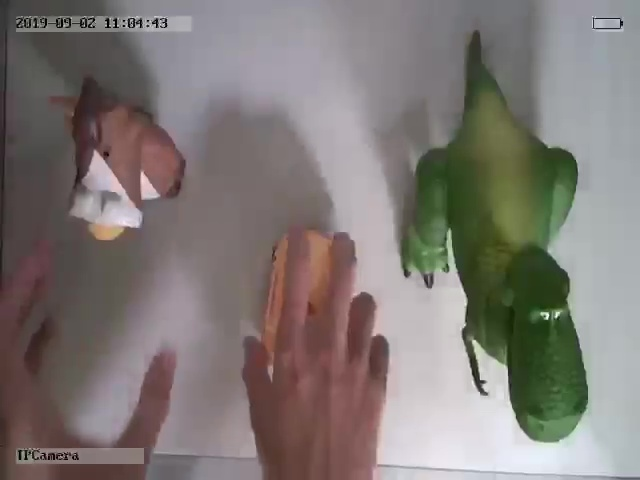horse: (46, 80, 187, 241)
rex: (405, 48, 593, 441)
